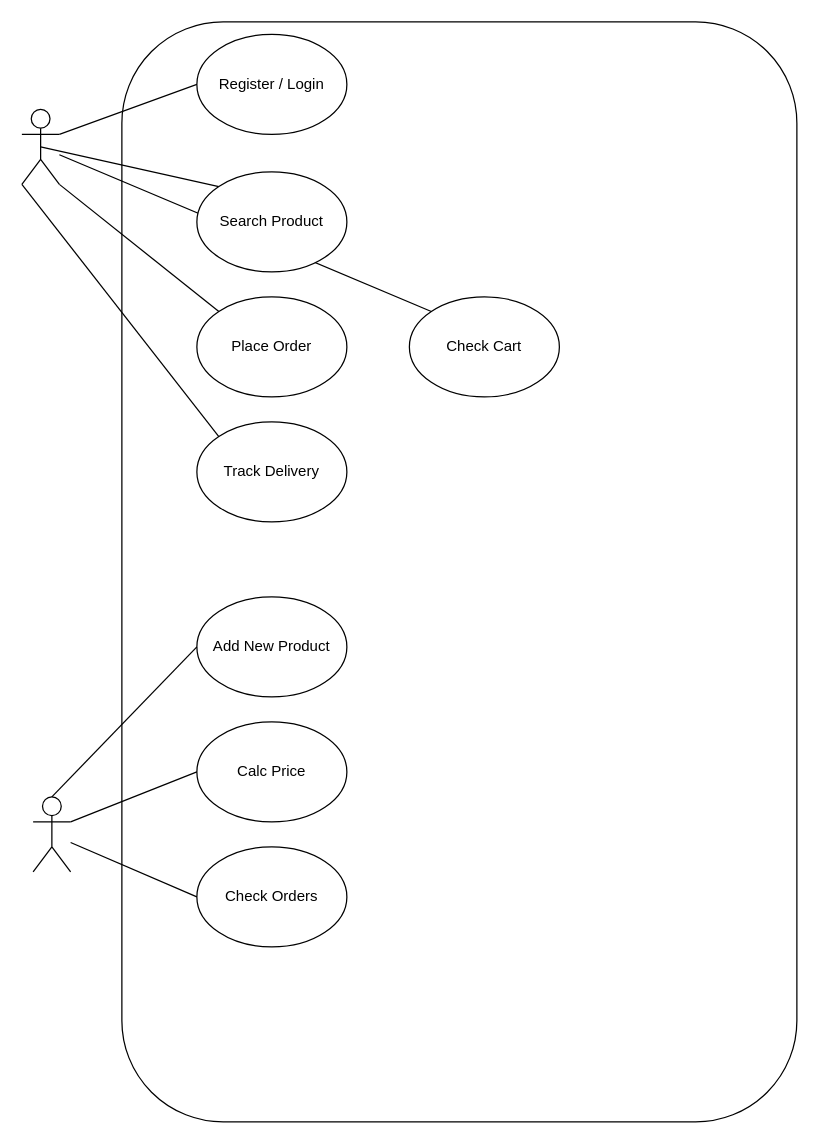
Image size: 819x1144. Some labels were removed from this diagram. The shapes that lost their labels are listed below. From the top down, each one's centre as x and y in pixels, then its label:
At pixel 40 146: "User".
At pixel 51 834: "Admin".
